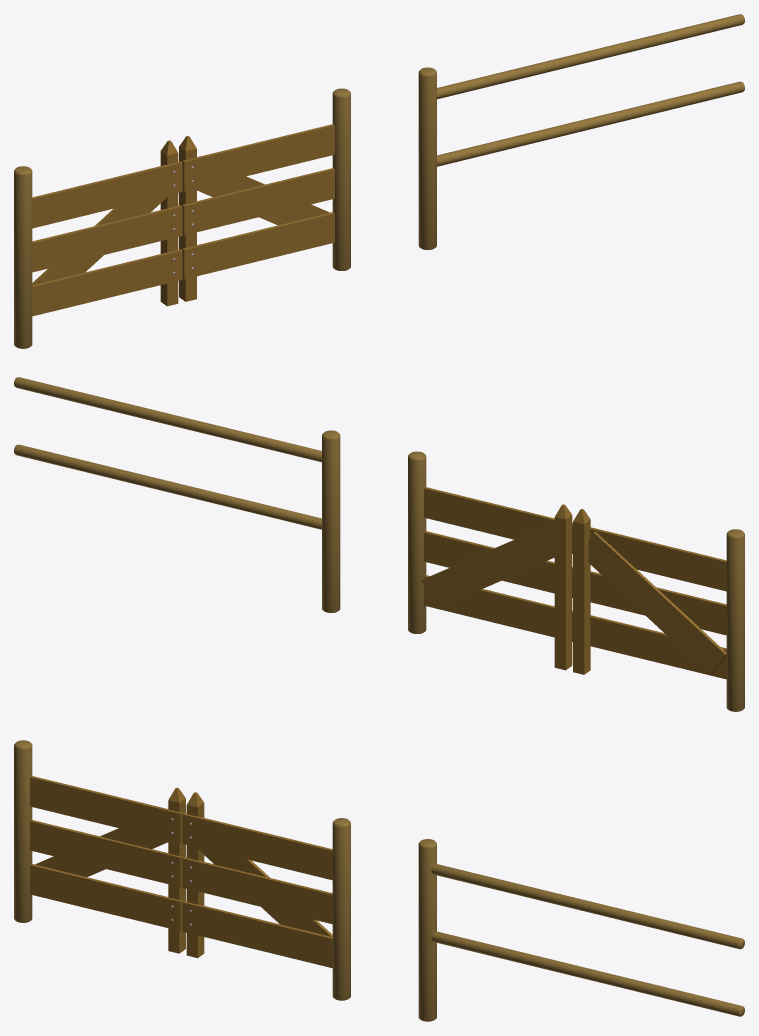
Rendered from WoodenFence2.fbx.
3 views of the same model, one above another, from view 1: azimuth 30°, elevation 25°; view 2: azimuth 150°, elevation 25°; view 3: azimuth 330°, elevation 25° (orthographic).
Visible parts, largest first — view 1: Gate RightDoor, Gate LeftDoor, Fence, Gate Pole 1, Gate Pole 2; view 2: Gate LeftDoor, Gate RightDoor, Fence, Gate Pole 1, Gate Pole 2; view 3: Gate LeftDoor, Gate RightDoor, Fence, Gate Pole 2, Gate Pole 1.
Boxes of the visible parts, box(x1,y1,x2,y2) form: Gate RightDoor: box(179, 124, 334, 301); Gate LeftDoor: box(32, 140, 182, 316); Fence: box(418, 14, 744, 249); Gate Pole 1: box(14, 166, 32, 348); Gate Pole 2: box(332, 88, 350, 270); Gate LeftDoor: box(573, 509, 726, 679); Gate RightDoor: box(421, 487, 572, 670); Fence: box(14, 377, 340, 612); Gate Pole 1: box(726, 529, 744, 711); Gate Pole 2: box(408, 451, 426, 633); Gate LeftDoor: box(30, 776, 185, 953); Gate RightDoor: box(182, 792, 332, 968); Fence: box(418, 839, 744, 1021); Gate Pole 2: box(332, 818, 350, 1000); Gate Pole 1: box(14, 740, 32, 922).
Size of the model in its own units: 208 by 48.07 by 5.75.
